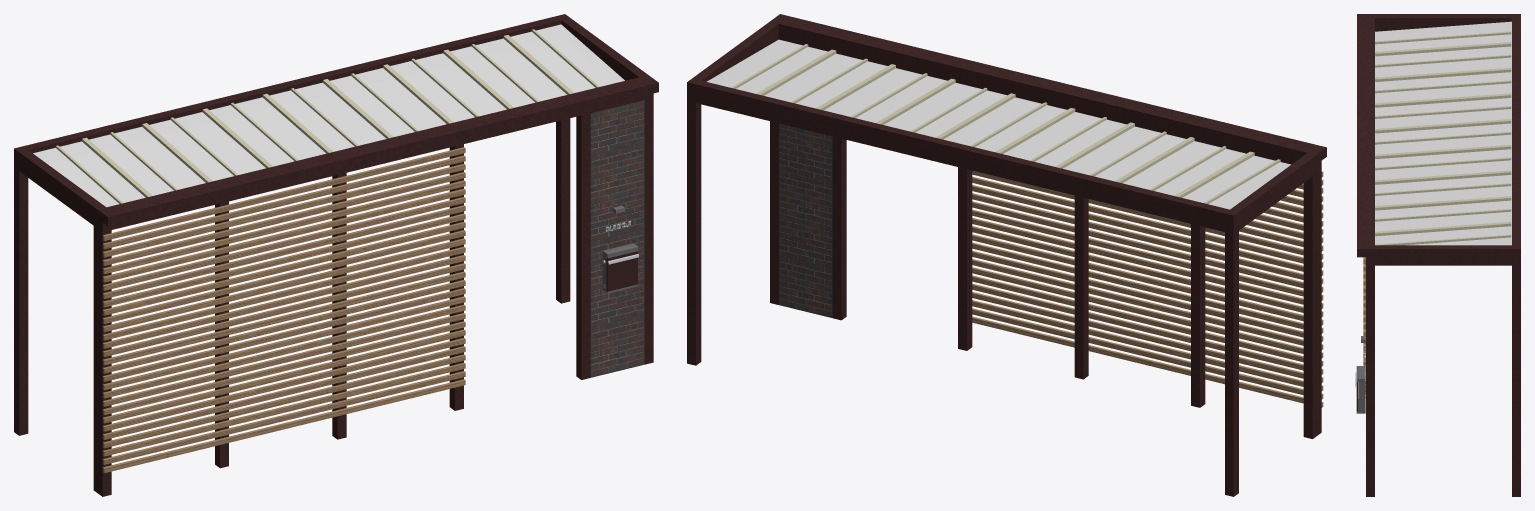
Rendered from hy21-e_rustycopper.fbx.
The picture shows the model from 3 angles, left to right: view 1: azimuth 30°, elevation 25°; view 2: azimuth 150°, elevation 25°; view 3: azimuth 270°, elevation 25°; orthographic projection. The views are drawn at different scales.
Parts seen in each view (by area): view 1: hy21-e_rustycopper; view 2: hy21-e_rustycopper; view 3: hy21-e_rustycopper.
Part boxes in pixels (x1,y1,x2,y2): hy21-e_rustycopper: (14,14,658,496); hy21-e_rustycopper: (687,14,1326,496); hy21-e_rustycopper: (1355,14,1520,496).
Bounding box in the file's own units: 610 × 300 × 182.
22 materials, 9 textured.
